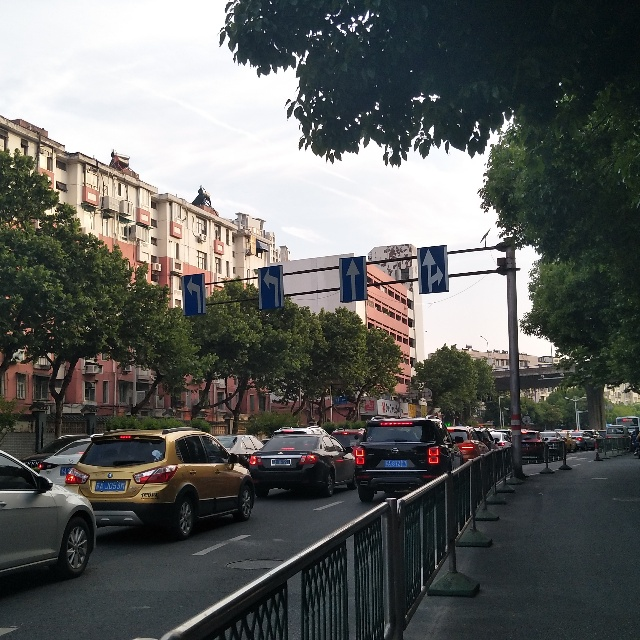left: (258, 268, 283, 307), (183, 277, 205, 314)
straight: (341, 256, 369, 302)
